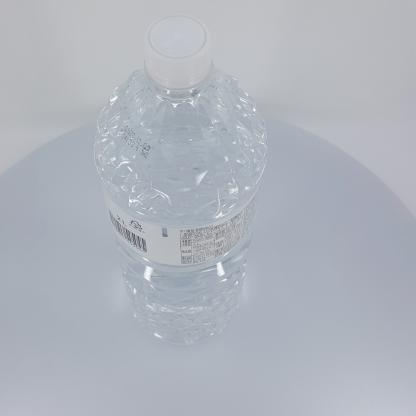--------------: (93, 13, 268, 346)
